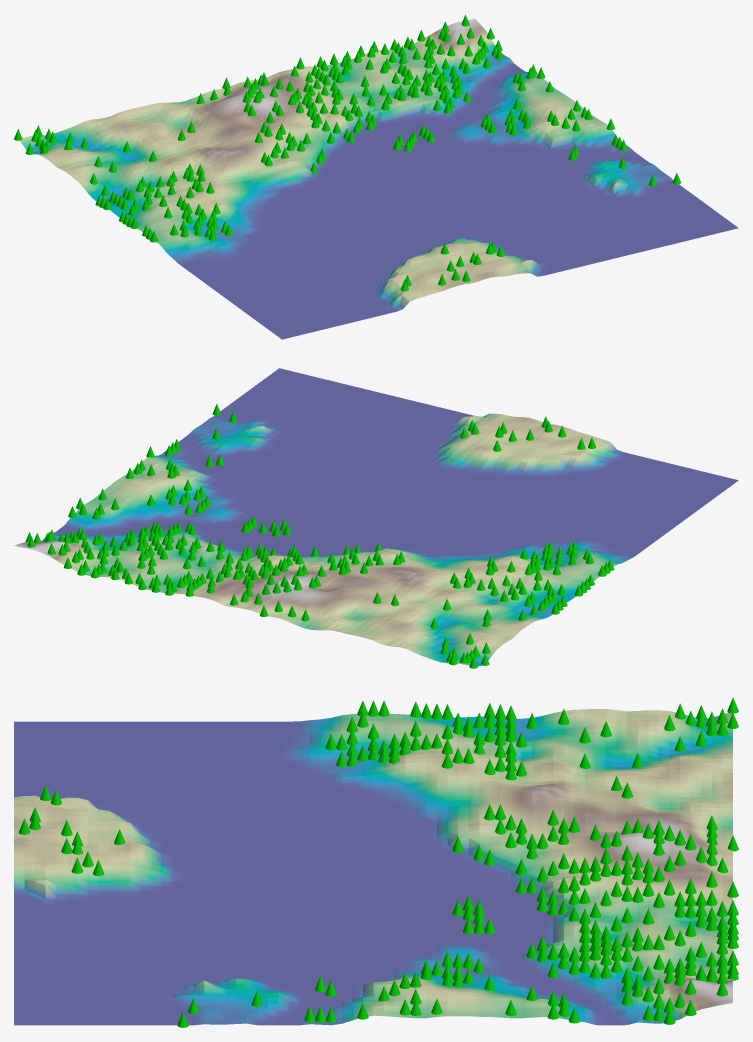
File: 000927_with_tree.glb
3 renders of one model, top to bottom at view 1: azimuth 30°, elevation 25°; view 2: azimuth 150°, elevation 25°; view 3: azimuth 270°, elevation 25°, orthographic. The views are drawn at different scales.
Visible parts, largest first — view 1: terrain, trees; view 2: terrain, trees; view 3: terrain, trees.
Boxes of the visible parts, x1,y1,x2,y2 form: terrain: (20, 18, 738, 339); trees: (14, 15, 680, 291); terrain: (14, 368, 738, 666); trees: (25, 404, 614, 668); terrain: (14, 709, 732, 1025); trees: (18, 697, 738, 1027).
Size of the model in its own units: 0.0186 by 0.00106 by 0.0185.
